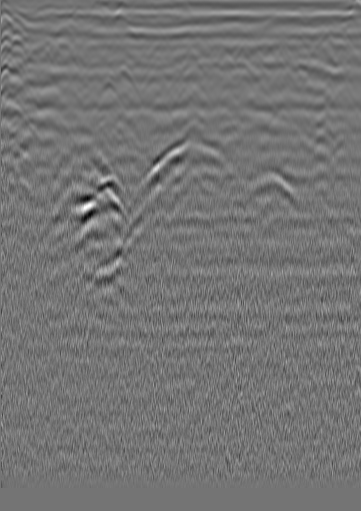가스: (73, 170, 144, 213)
상수: (331, 36, 351, 56)
우수: (226, 35, 246, 55)
